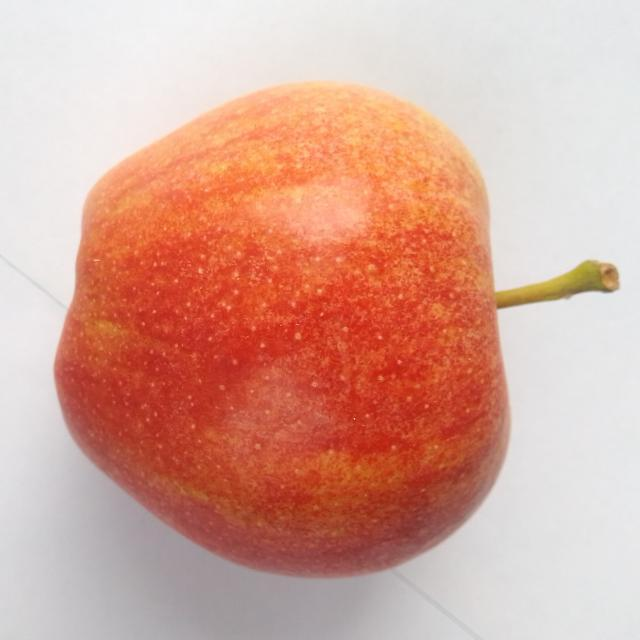Fresh Apple: (55, 78, 513, 587)
